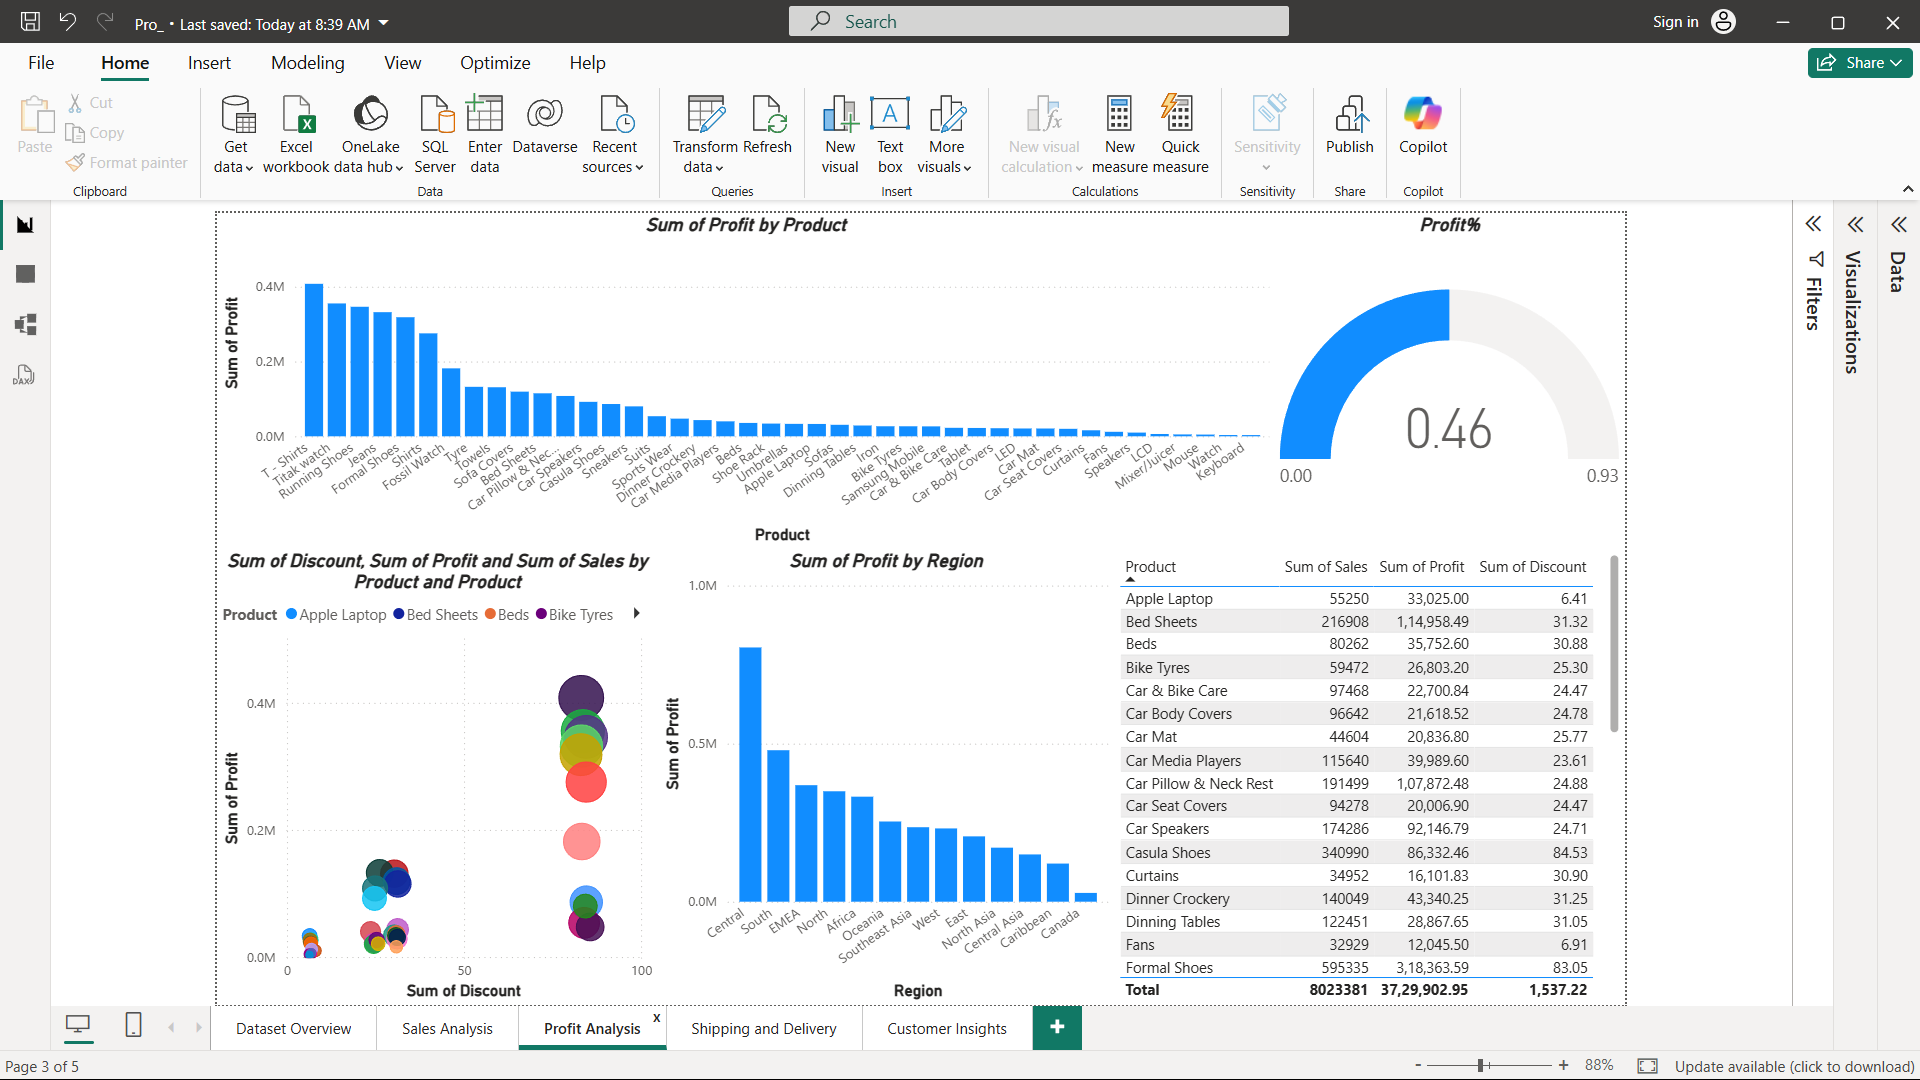

The dashboard page shown, as its layout file describes it:
{"tool":"powerbi","page":{"name":"Profit Analysis","canvas":[1280,720],"ordinal":2},"visuals":[{"type":"columnChart","fields":{"Category":["Sheet1.Product"],"Y":["Sum(Sheet1.Profit)"]},"box":[0,0,961.9,306],"z":0},{"type":"scatterChart","fields":{"X":["Sum(Sheet1.Discount)"],"Y":["Sum(Sheet1.Profit)"],"Series":["Sheet1.Product"],"Category":["Sheet1.Product"],"Size":["Sum(Sheet1.Sales)"]},"box":[0,306,400.7,414.4],"z":1000},{"type":"columnChart","fields":{"Category":["Sheet1.Region"],"Y":["Sum(Sheet1.Profit)"]},"box":[400.7,306,414.4,414.4],"z":2000},{"type":"tableEx","fields":{"Values":["Sheet1.Product","Sum(Sheet1.Sales)","Sum(Sheet1.Profit)","Sum(Sheet1.Discount)"]},"box":[815.1,306,465.2,414.4],"z":3000},{"type":"gauge","fields":{"Y":["Sheet1.Profit%"]},"box":[961.9,0,318.4,306],"z":4000}]}

Visuals, with their boxes on the page's 1280x720 design canvas (x1, y1, x2, y2). These are canvas units, not pixel positions in the 1920x1080 screenshot, which may show the page scaled, cropped or inside an application window:
columnChart - Sheet1.Product x Sum(Sheet1.Profit): x1=0, y1=0, x2=962, y2=306
scatterChart - Sum(Sheet1.Discount) x Sum(Sheet1.Profit): x1=0, y1=306, x2=401, y2=720
columnChart - Sheet1.Region x Sum(Sheet1.Profit): x1=401, y1=306, x2=815, y2=720
tableEx - Sheet1.Product x Sum(Sheet1.Sales): x1=815, y1=306, x2=1280, y2=720
gauge - Sheet1.Profit%: x1=962, y1=0, x2=1280, y2=306
